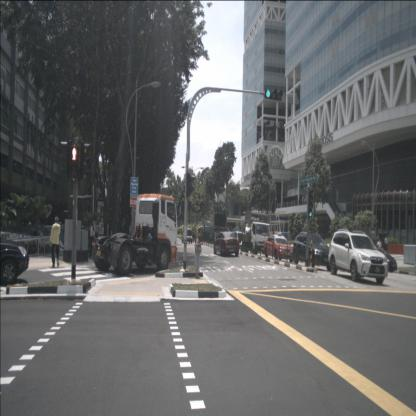human-pedestrian-adult: (50, 216, 61, 268), (194, 225, 203, 279), (89, 219, 97, 260), (98, 216, 105, 253), (105, 222, 112, 253), (376, 238, 382, 257), (384, 234, 388, 254)
vehicle-car: (328, 228, 389, 285), (292, 231, 332, 270), (0, 236, 30, 286), (264, 233, 294, 263), (366, 246, 398, 274), (214, 232, 239, 256), (181, 228, 193, 244)
vehicle-truck: (92, 189, 182, 276), (242, 223, 271, 254)
